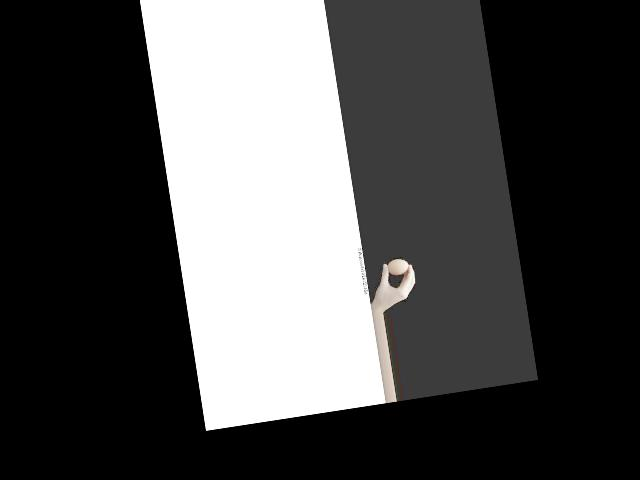egg: (386, 257, 410, 276)
